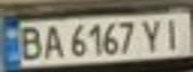1: (84, 20, 106, 56)
6: (63, 20, 87, 57), (103, 19, 124, 55)
7: (115, 18, 139, 54)
A: (39, 22, 66, 60)
B: (15, 24, 45, 61)
I: (157, 15, 190, 51)
Y: (139, 16, 169, 52)
